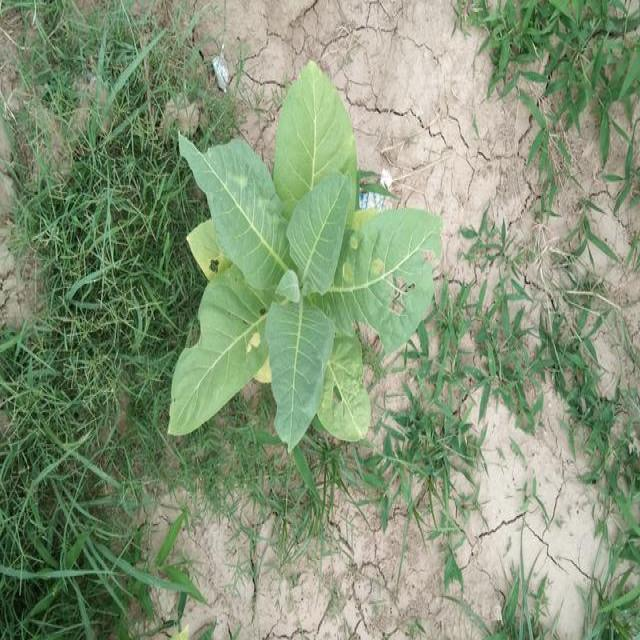crop: (163, 51, 444, 457)
